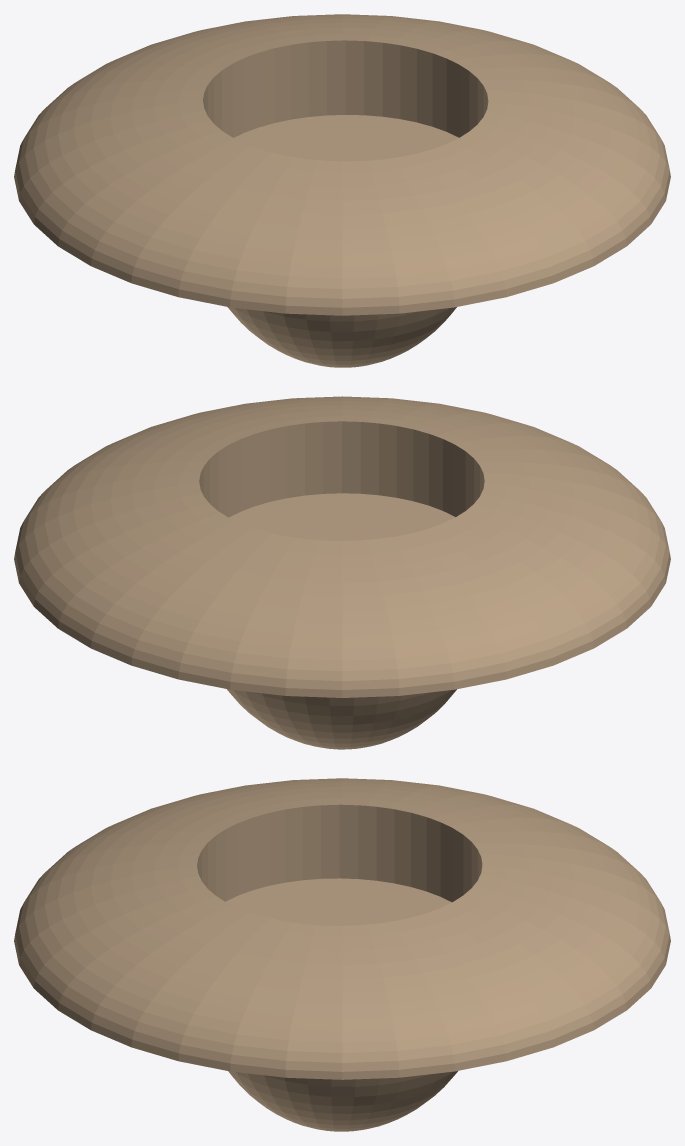
File: Tremendous Rottis (4).glb
3 renders of one model, top to bottom at view 1: azimuth 30°, elevation 25°; view 2: azimuth 150°, elevation 25°; view 3: azimuth 270°, elevation 25°, orthographic.
Visible parts, largest first — view 1: Mesh_Mesh_head_geo.001_lambert2SG.001; view 2: Mesh_Mesh_head_geo.001_lambert2SG.001; view 3: Mesh_Mesh_head_geo.001_lambert2SG.001.
Boxes of the visible parts, x1,y1,x2,y2 form: Mesh_Mesh_head_geo.001_lambert2SG.001: [14, 14, 670, 367]; Mesh_Mesh_head_geo.001_lambert2SG.001: [14, 396, 670, 749]; Mesh_Mesh_head_geo.001_lambert2SG.001: [14, 778, 670, 1131].
Bounding box in the file's own units: 0.17 × 0.073 × 0.17.
